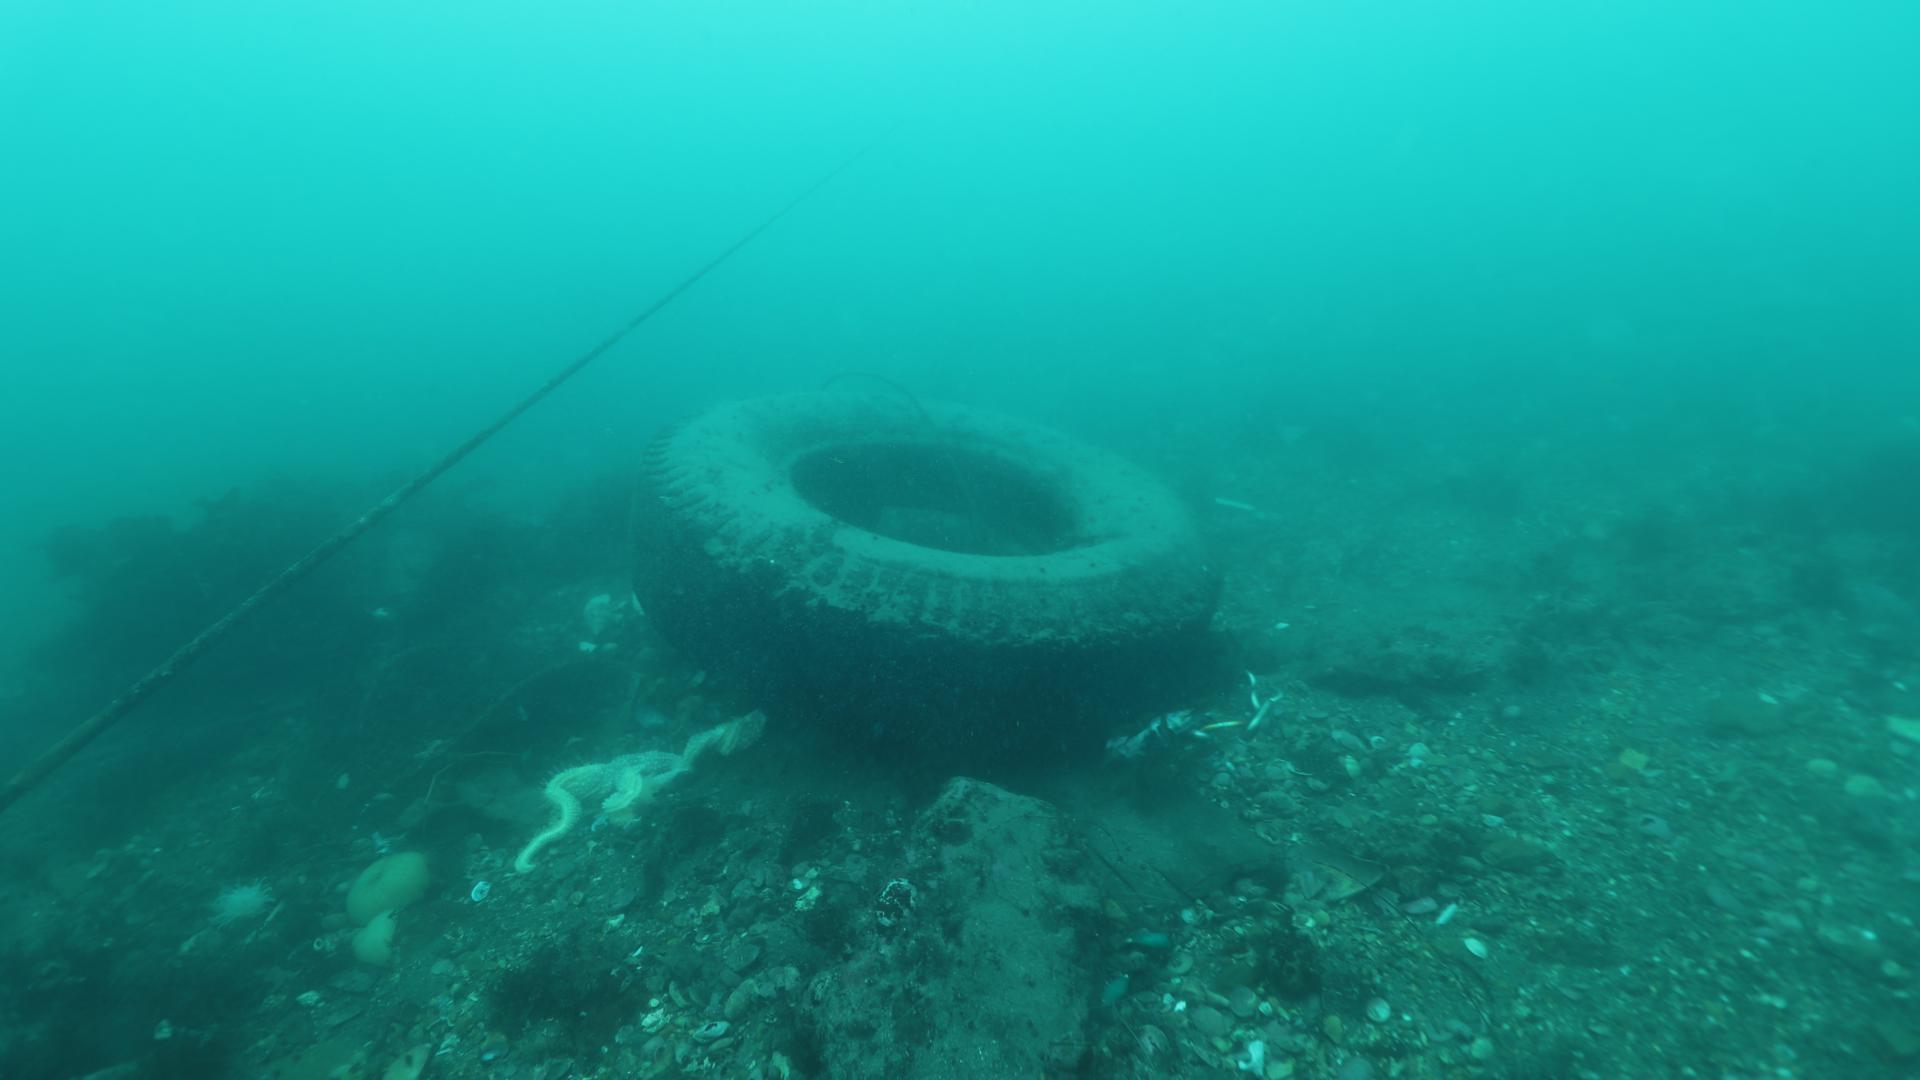tire: (624, 386, 1222, 753)
